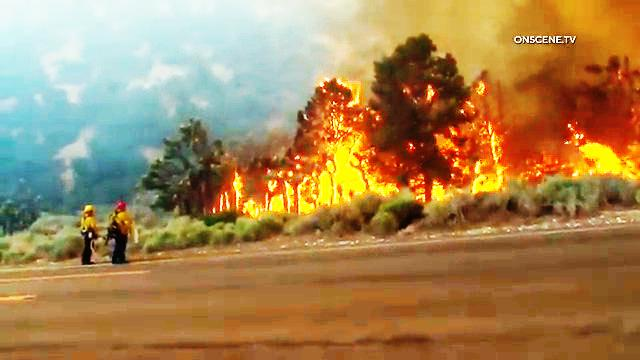fire: (283, 85, 373, 207), (577, 139, 629, 178), (437, 139, 441, 144)
